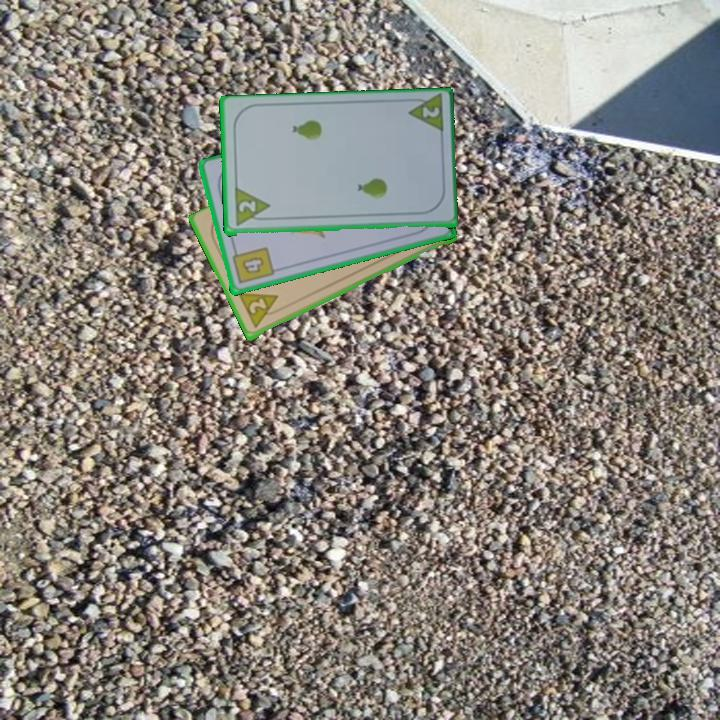2p: (235, 289, 285, 332), (231, 186, 272, 229), (418, 103, 442, 121)
4b: (228, 244, 276, 287)
